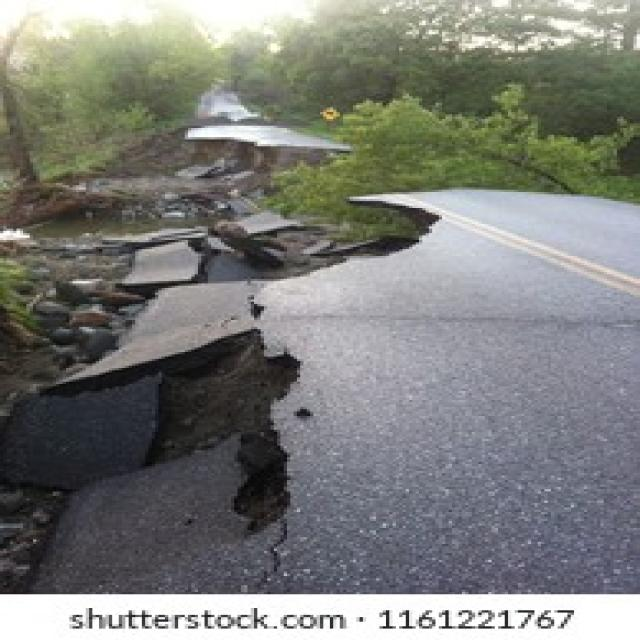road collapse: (0, 73, 521, 567)
